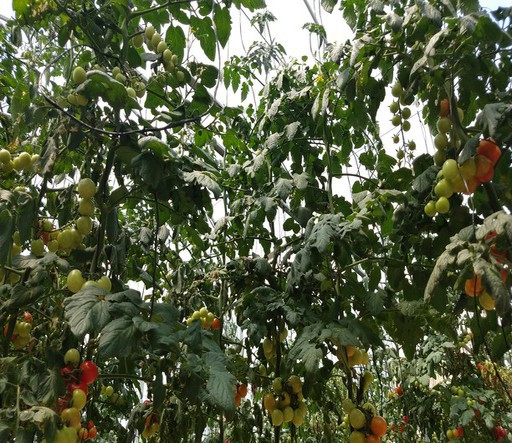green tomato bunch: (11, 179, 98, 257), (59, 63, 147, 107), (135, 26, 185, 83), (433, 95, 464, 169), (265, 375, 305, 427), (390, 83, 413, 161), (66, 270, 109, 308), (1, 150, 44, 172), (262, 327, 288, 359), (330, 344, 371, 364), (186, 308, 214, 333)
mixed tomato bunch: (425, 137, 501, 218), (45, 347, 95, 443), (341, 399, 388, 443), (4, 313, 33, 349)
